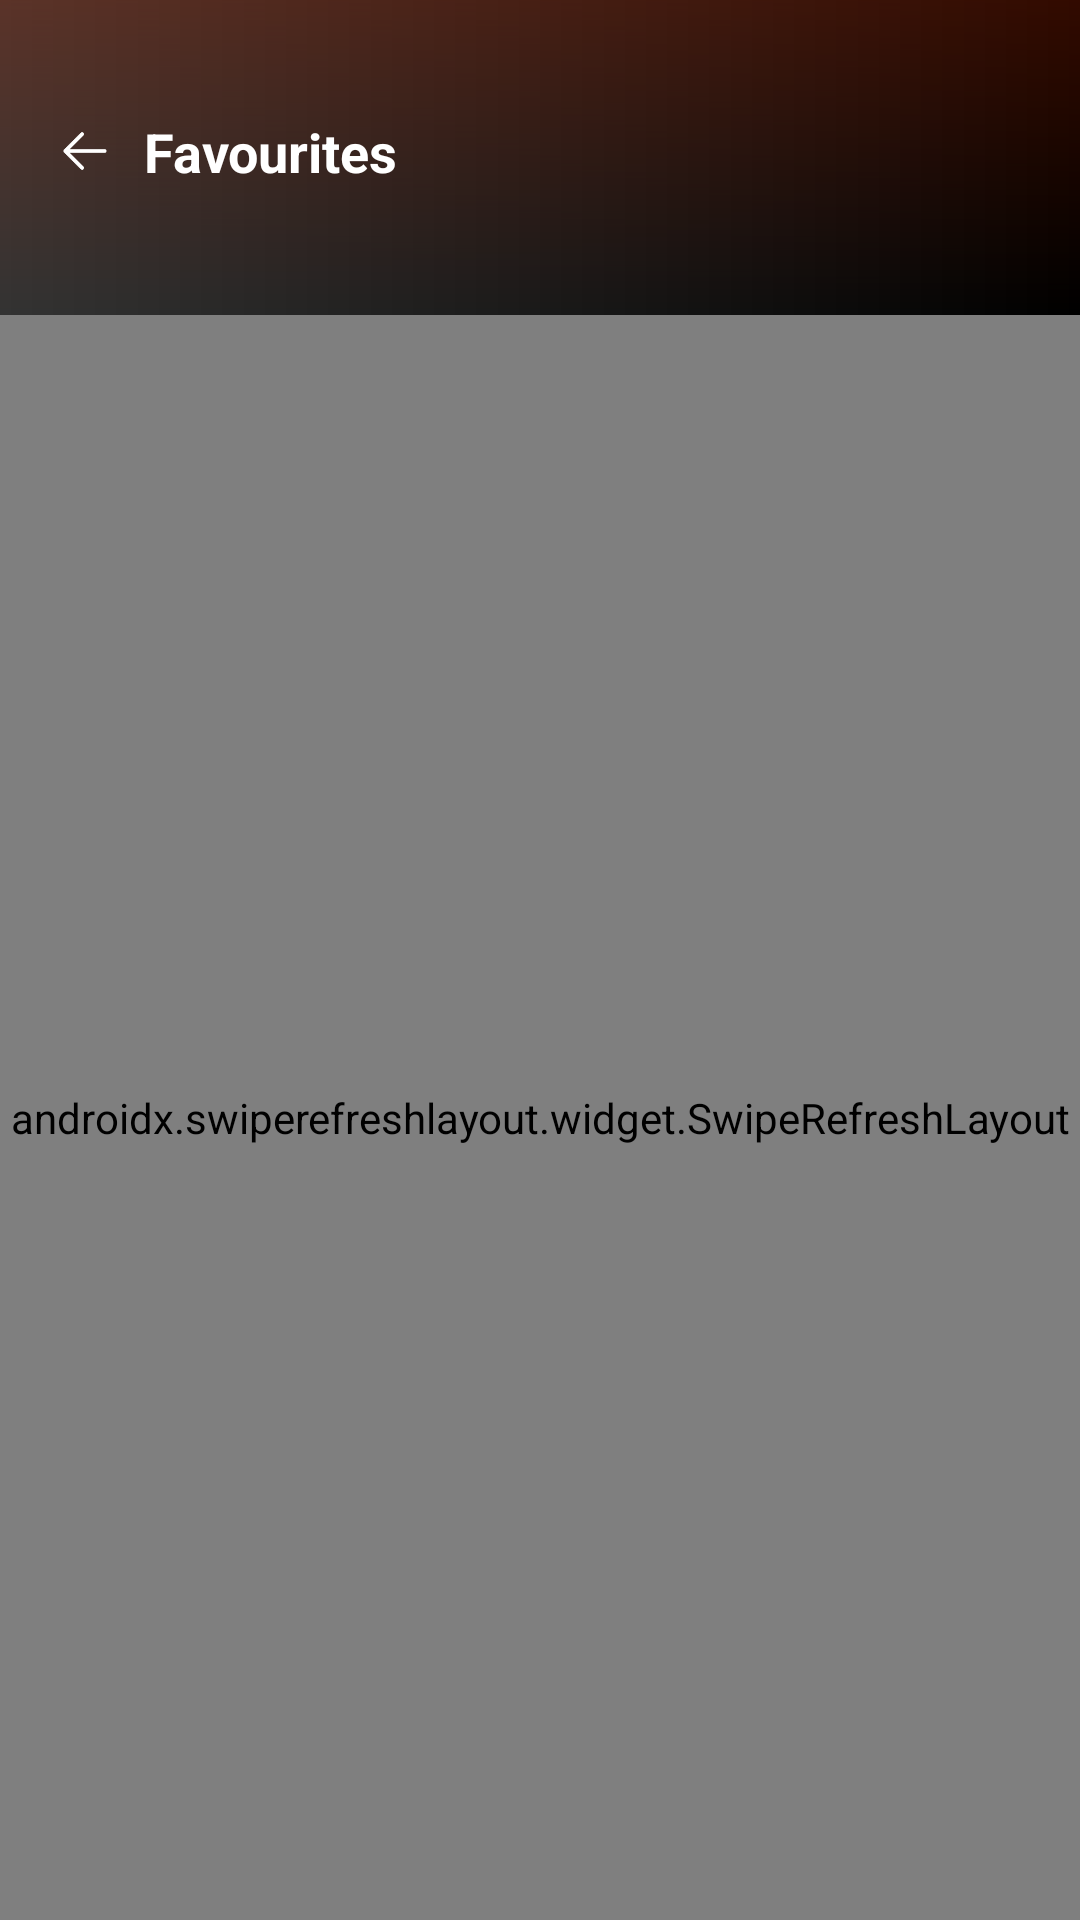

Where to tap for icons on this 1080px×1920px app screen, as (x,y):
back arrow: (85,151)
